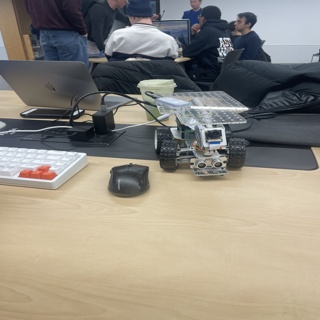vehicle: (151, 91, 249, 176)
